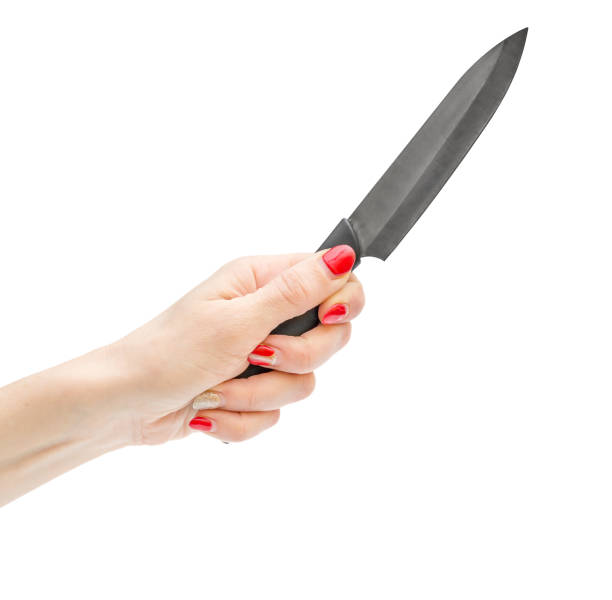knife: (242, 26, 530, 377)
